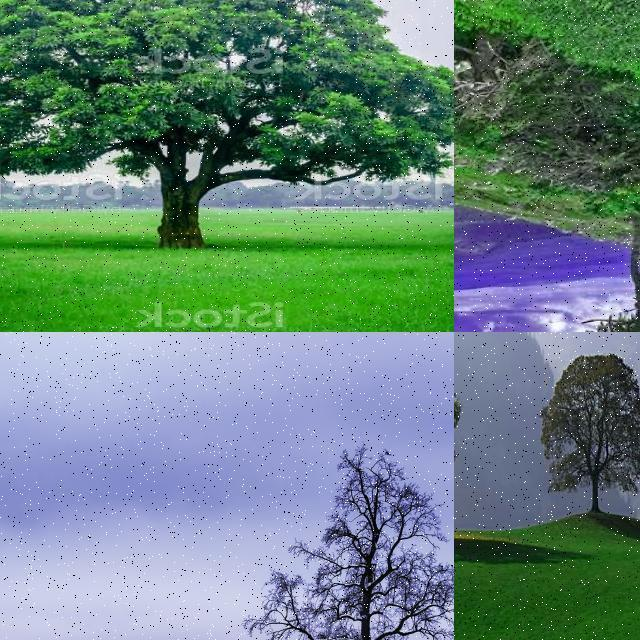tree: (0, 0, 454, 246), (246, 436, 454, 640), (454, 332, 550, 536), (539, 354, 640, 514), (578, 240, 640, 332)
